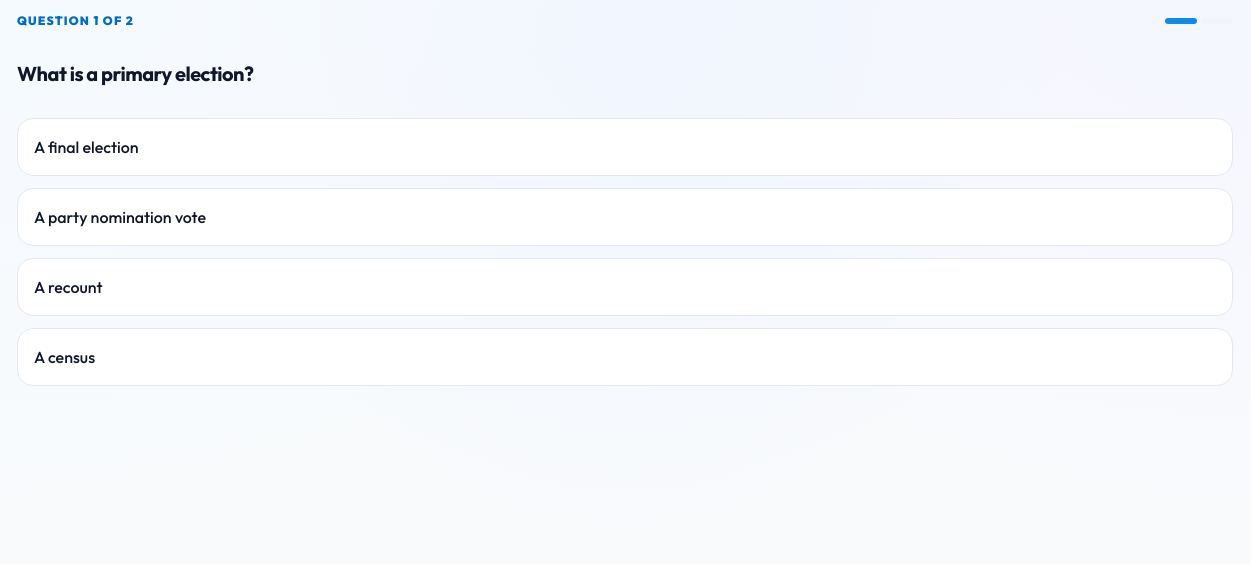
Scenario: QuizBlock › highlights correct answer after selection
Step 1. Click the button "A party nomination vote" → (120, 217), box [17,188,1233,246]
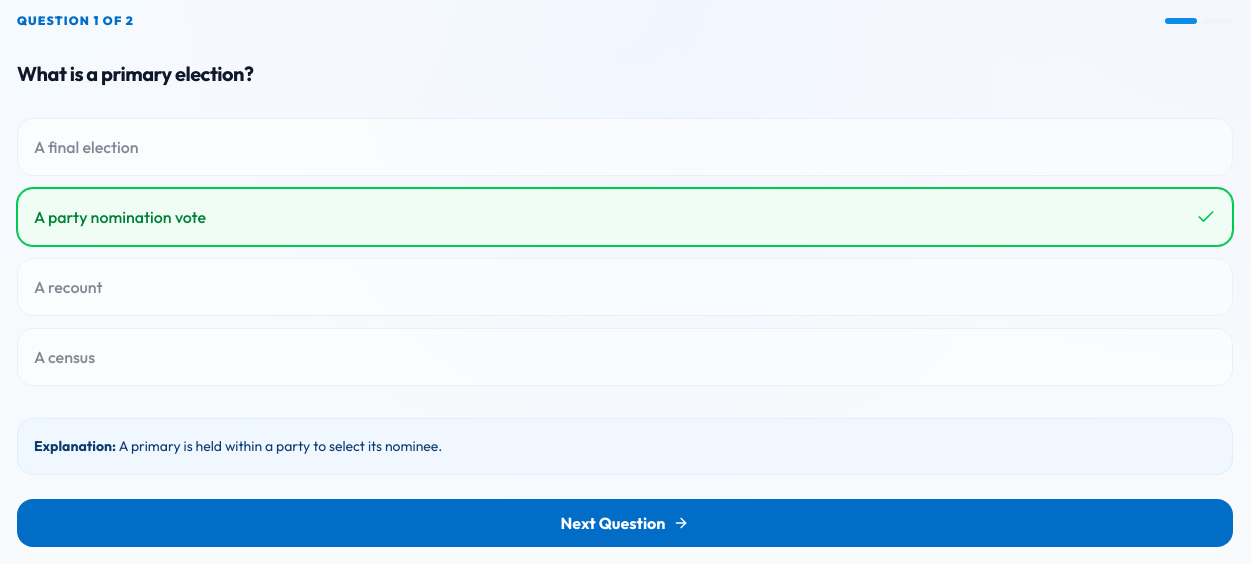
Result: the text "Explanation:" is shown at [34,437,116,455]
